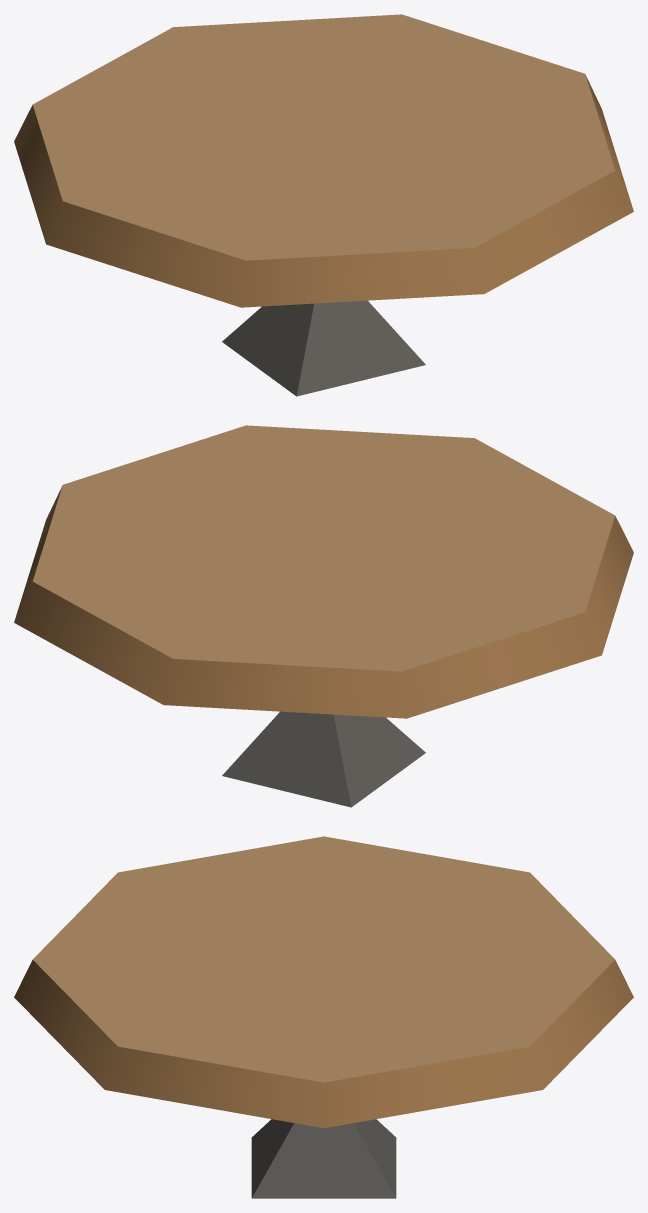
Rendered from Table_B1.fbx.
3 renders of one model, top to bottom at view 1: azimuth 30°, elevation 25°; view 2: azimuth 150°, elevation 25°; view 3: azimuth 270°, elevation 25°, orthographic. The views are drawn at different scales.
Parts seen in each view (by area): view 1: Table_B1; view 2: Table_B1; view 3: Table_B1.
Part boxes in pixels (box(x1,y1,x2,y2)): Table_B1: box(14, 14, 633, 396); Table_B1: box(14, 425, 633, 807); Table_B1: box(14, 836, 633, 1198).
Bounding box in the file's own units: 220 × 81.5 × 220.
